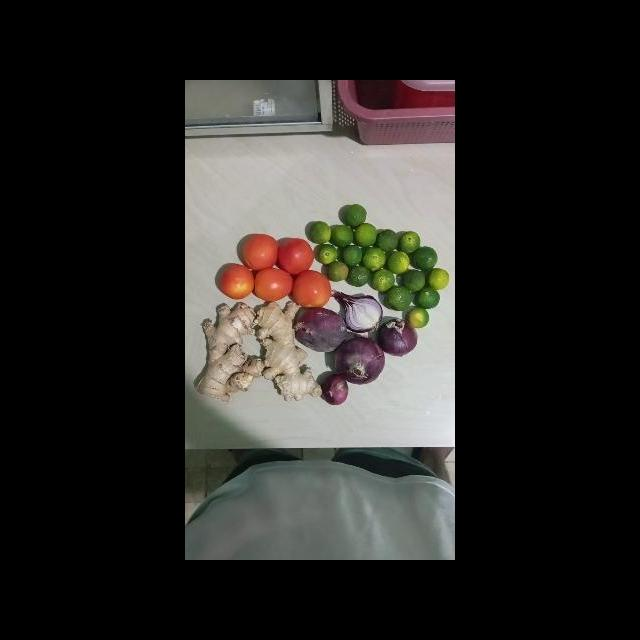ginger: (247, 297, 325, 408), (192, 297, 263, 407)
onion: (331, 336, 393, 387), (293, 304, 350, 355), (332, 285, 388, 335), (373, 316, 424, 358), (317, 369, 355, 407)
